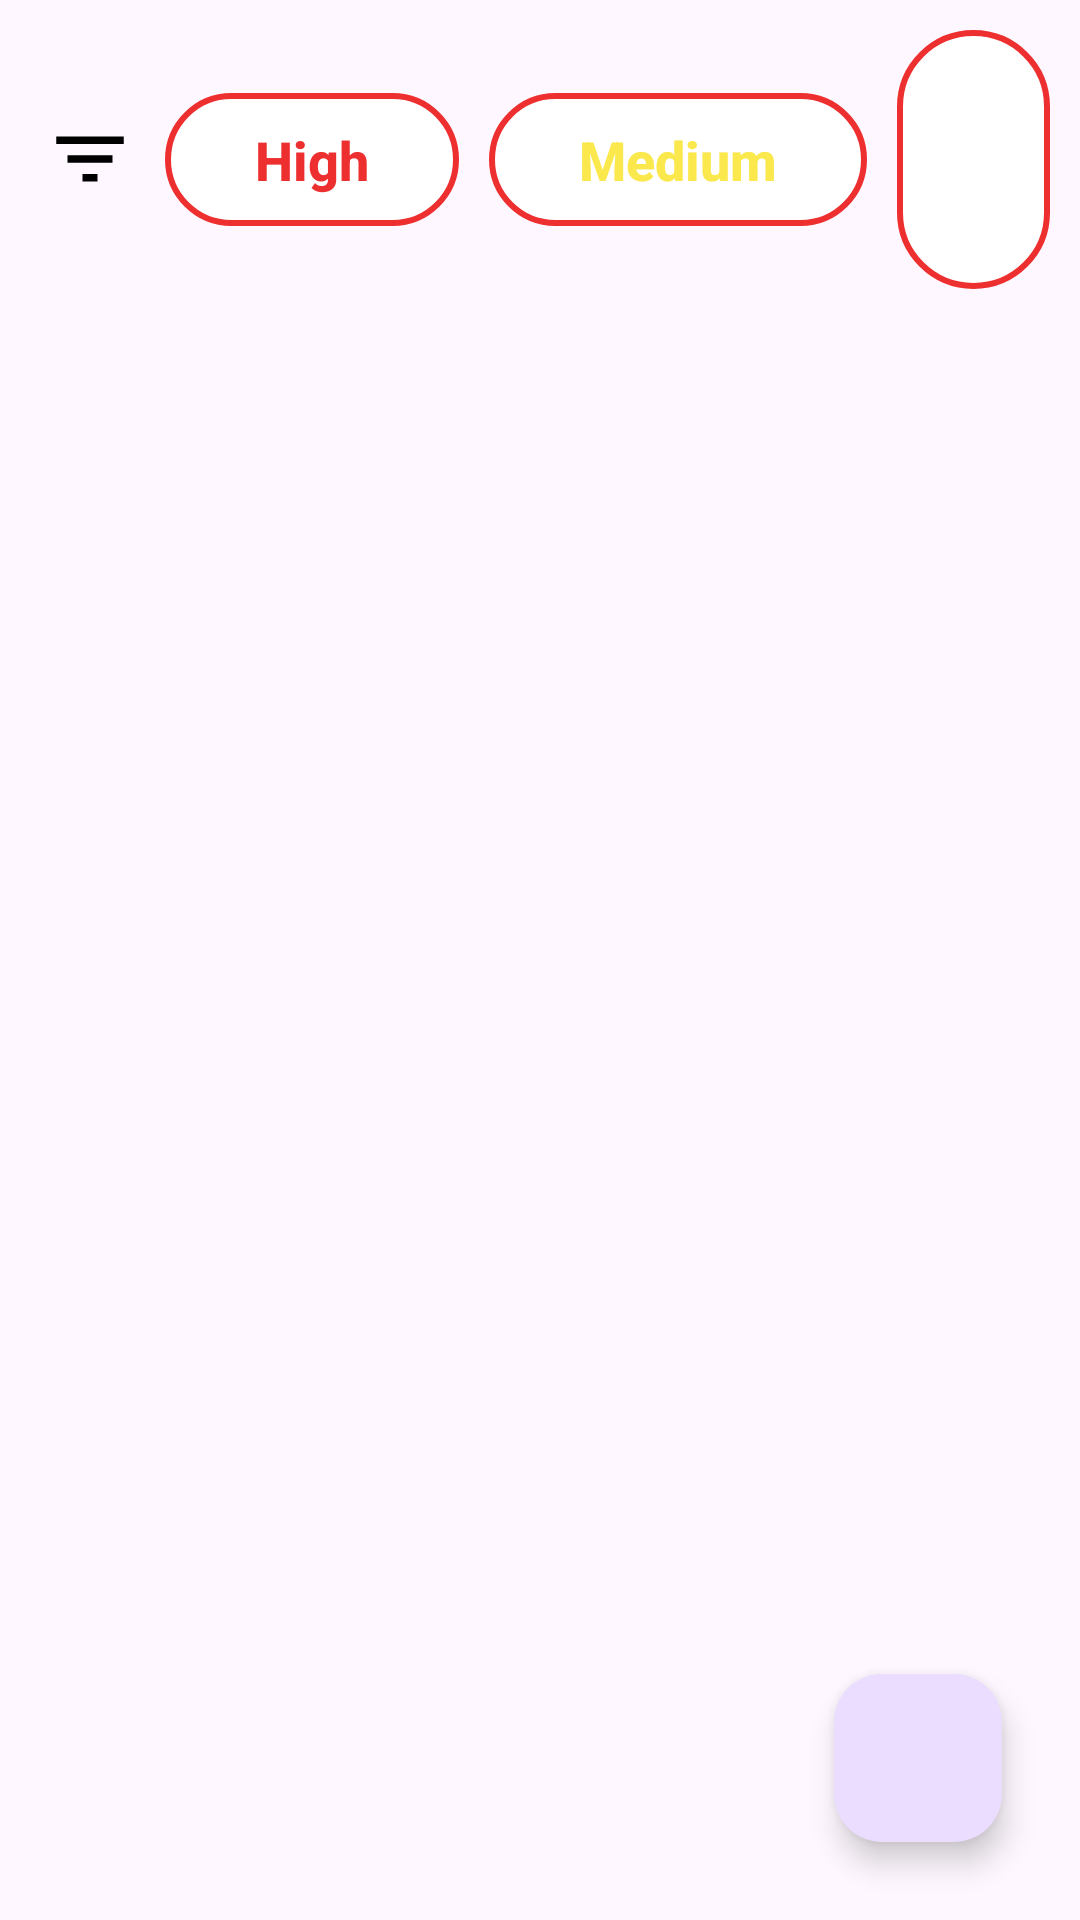

Where to tap for icons on this 1080px x 1920px app screen, as (x,y):
filter list: (90,159)
